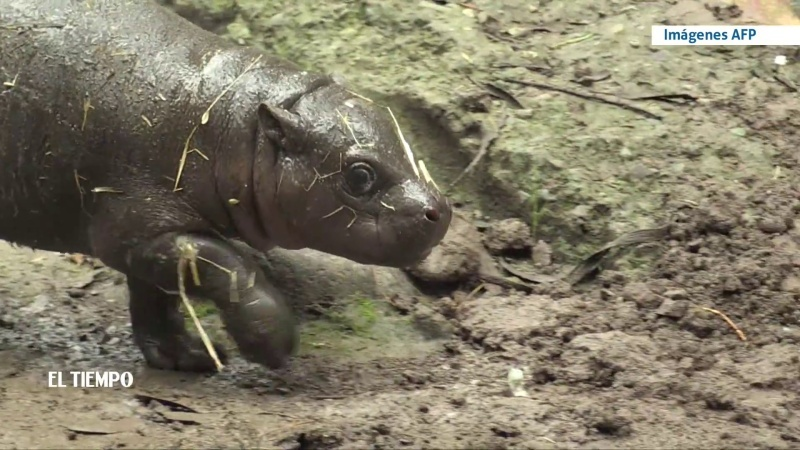hipopotamo: (1, 1, 481, 385)
